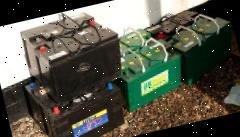electronic: (14, 5, 129, 102)
